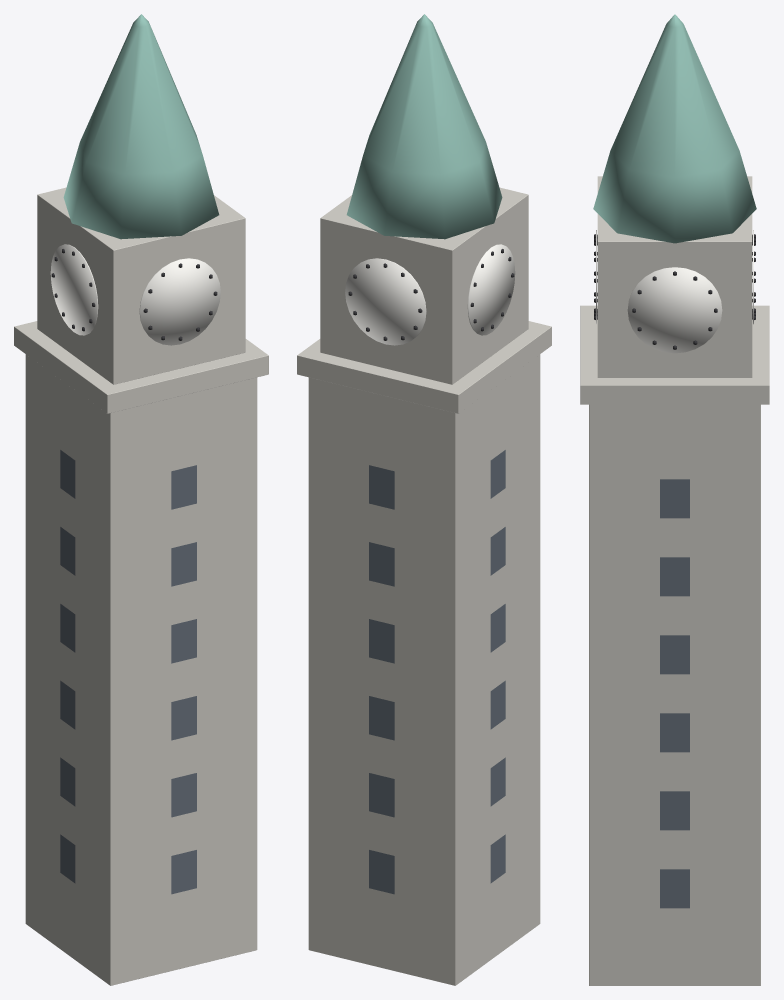
Rendered from clock_tower.glb.
The picture shows the model from 3 angles, left to right: view 1: azimuth 30°, elevation 25°; view 2: azimuth 150°, elevation 25°; view 3: azimuth 270°, elevation 25°; orthographic projection.
Visible parts, largest first — view 1: clock_tower; view 2: clock_tower; view 3: clock_tower.
Part boxes in pixels (bbox=[...]): clock_tower: bbox=[14, 14, 268, 985]; clock_tower: bbox=[297, 14, 551, 985]; clock_tower: bbox=[580, 14, 769, 985].
Size of the model in its own units: 8.8 by 48 by 8.8.
